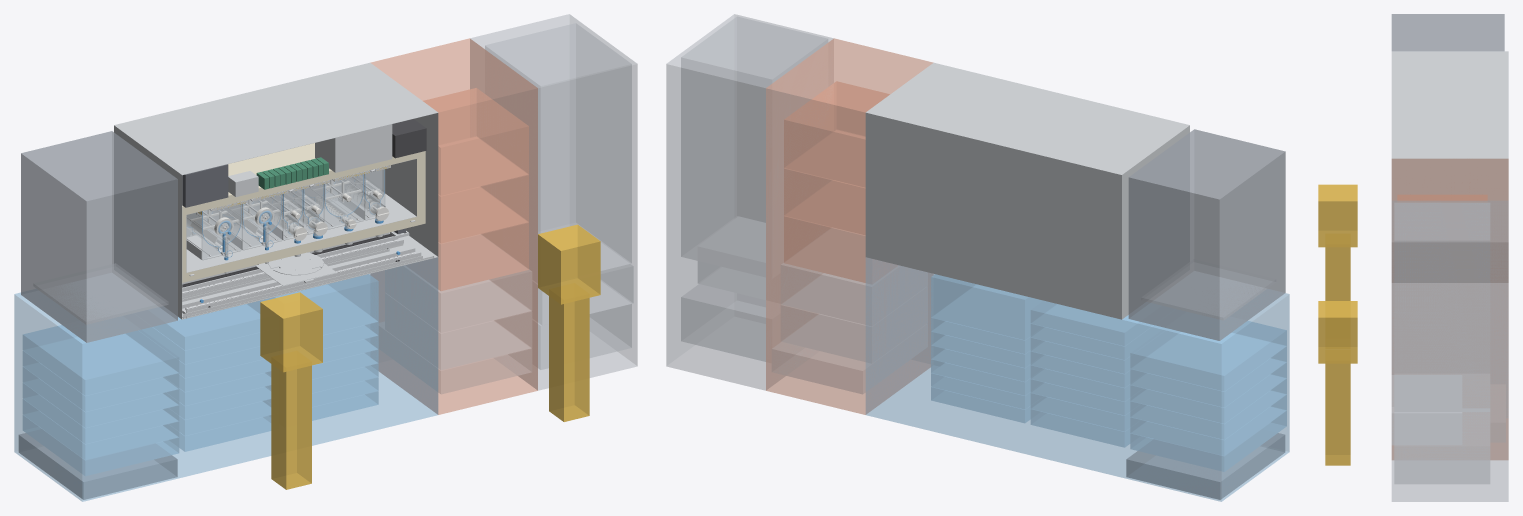
File: hat_v19.glb
3 renders of one model, left to right at view 1: azimuth 30°, elevation 25°; view 2: azimuth 150°, elevation 25°; view 3: azimuth 270°, elevation 25°, orthographic. The views are drawn at different scales.
Visible parts, largest first — view 1: B_KABIN, TOPPING_MODUL__sac, D_KABIN, E_KABIN, PRESS, E_SARJOR, FIRIN_3, CEK_K1_hamur_6, TOPPING_MODUL__pu, B_SOGUTMA, ROBOT_2, ROBOT_1 (+42 smaller); view 2: B_KABIN, TOPPING_MODUL__sac, D_KABIN, E_KABIN, PRESS, E_SARJOR, FIRIN_3, CEK_K1_hamur_6, B_SOGUTMA, E_MEK, PRESS_PLAKA, CEK_K3_icecek_1 (+25 smaller); view 3: E_KABIN, TOPPING_MODUL__sac, E_SARJOR, D_KABIN, E_MEK, PRESS, ROBOT_2, ROBOT_1_KOL, ROBOT_2_KOL, E_AGZ, ROBOT_1, FIRIN_3.
Boxes of the visible parts, left/top/right/bottom form: B_KABIN: left=14, top=257, right=438, bottom=501; TOPPING_MODUL__sac: left=114, top=62, right=438, bottom=319; D_KABIN: left=370, top=38, right=537, bottom=414; E_KABIN: left=470, top=14, right=637, bottom=390; PRESS: left=21, top=131, right=177, bottom=342; E_SARJOR: left=485, top=23, right=631, bottom=270; FIRIN_3: left=423, top=88, right=528, bottom=195; CEK_K1_hamur_6: left=23, top=325, right=178, bottom=395; TOPPING_MODUL__pu: left=182, top=143, right=425, bottom=282; B_SOGUTMA: left=18, top=429, right=177, bottom=499; ROBOT_2: left=549, top=283, right=589, bottom=421; ROBOT_1: left=271, top=351, right=311, bottom=489; B_KABIN: left=865, top=257, right=1289, bottom=501; TOPPING_MODUL__sac: left=865, top=62, right=1189, bottom=319; D_KABIN: left=766, top=38, right=933, bottom=414; E_KABIN: left=666, top=14, right=833, bottom=390; PRESS: left=1128, top=129, right=1285, bottom=340; E_SARJOR: left=681, top=16, right=827, bottom=277; FIRIN_3: left=784, top=81, right=889, bottom=187; CEK_K1_hamur_6: left=1130, top=321, right=1286, bottom=391; B_SOGUTMA: left=1126, top=429, right=1285, bottom=499; E_MEK: left=681, top=284, right=765, bottom=361; PRESS_PLAKA: left=1141, top=259, right=1275, bottom=320; CEK_K3_icecek_1: left=931, top=274, right=1042, bottom=339; E_KABIN: left=1391, top=200, right=1508, bottom=501; TOPPING_MODUL__sac: left=1391, top=51, right=1508, bottom=282; E_SARJOR: left=1394, top=203, right=1489, bottom=411; D_KABIN: left=1392, top=158, right=1508, bottom=459; E_MEK: left=1394, top=412, right=1489, bottom=483; PRESS: left=1391, top=14, right=1504, bottom=51; ROBOT_2: left=1325, top=363, right=1350, bottom=465; ROBOT_1_KOL: left=1318, top=184, right=1357, bottom=247; ROBOT_2_KOL: left=1318, top=301, right=1357, bottom=363; E_AGZ: left=1392, top=375, right=1461, bottom=444; ROBOT_1: left=1325, top=234, right=1350, bottom=300; FIRIN_3: left=1397, top=195, right=1487, bottom=200.
Bounding box in the file's own units: 3.9 × 2.03 × 1.35.
97 materials, 18 textured.
